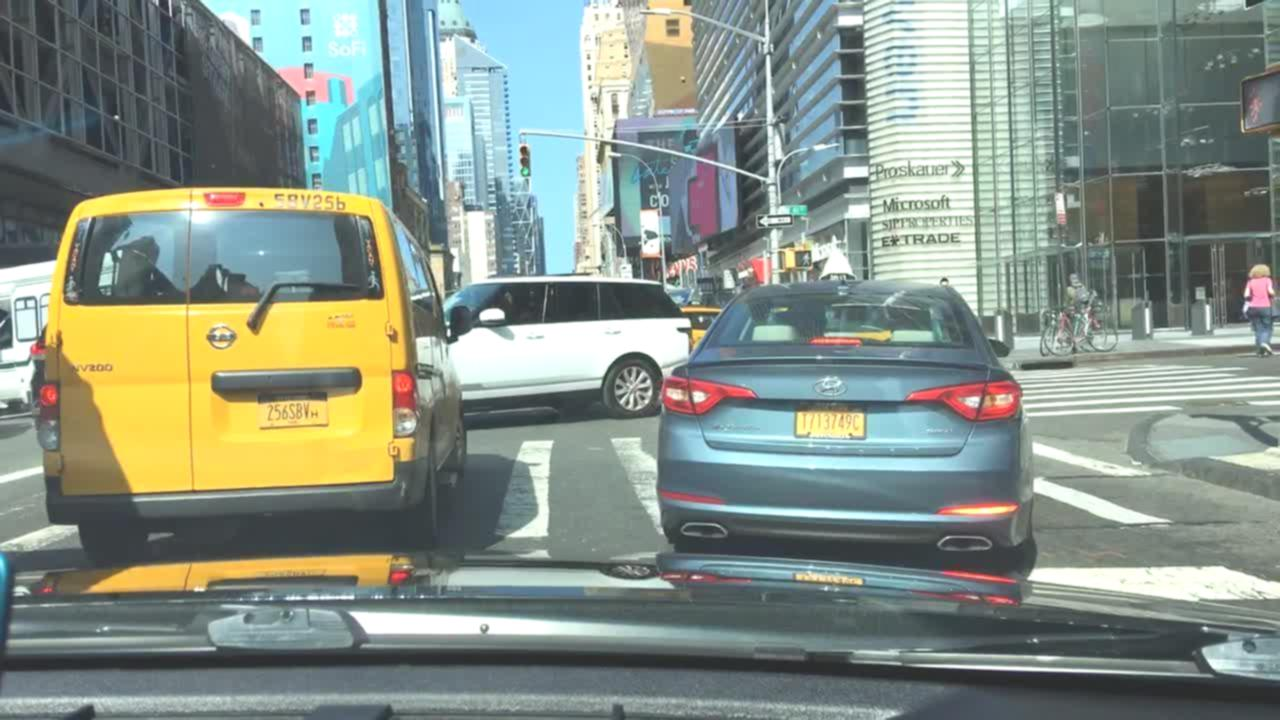Hyundai: (808, 373, 851, 403)
Nissan: (197, 316, 246, 360)
